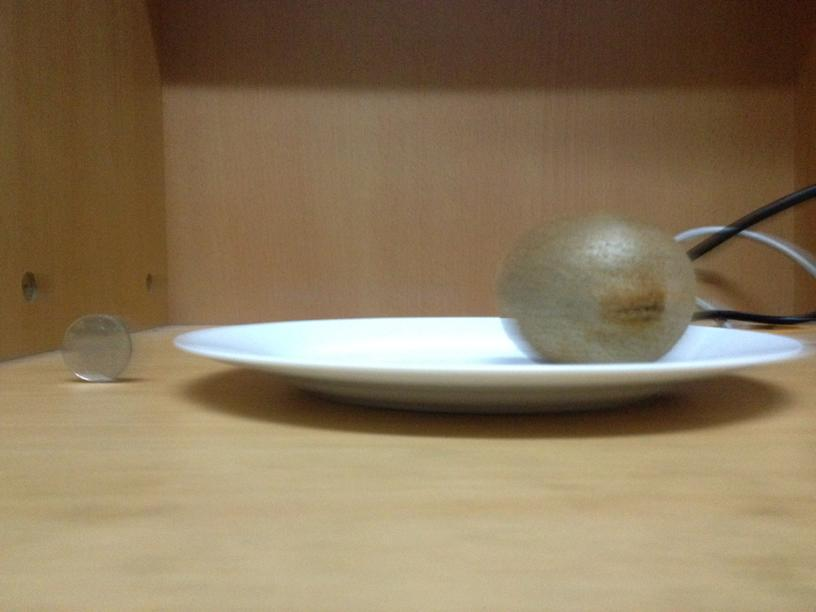coin: (65, 315, 133, 382)
qiwi: (502, 216, 693, 360)
